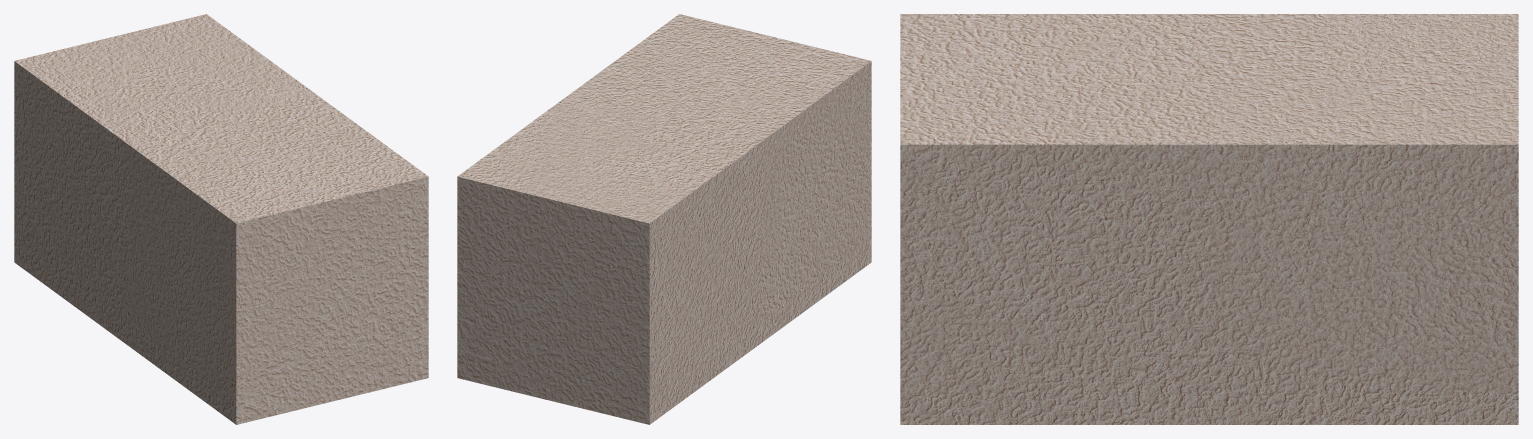
File: playerlobbybox+room.fbx
The picture shows the model from 3 angles, left to right: view 1: azimuth 30°, elevation 25°; view 2: azimuth 150°, elevation 25°; view 3: azimuth 270°, elevation 25°; orthographic projection. The views are drawn at different scales.
Parts seen in each view (by area): view 1: Cube; view 2: Cube; view 3: Cube.
Boxes of the visible parts, box(x1,y1,x2,y2) form: Cube: box(14, 14, 428, 424); Cube: box(457, 14, 871, 424); Cube: box(900, 14, 1518, 424).
Bounding box in the file's own units: 600 × 600 × 1200.
Materials: 2 (2 with a texture image).
